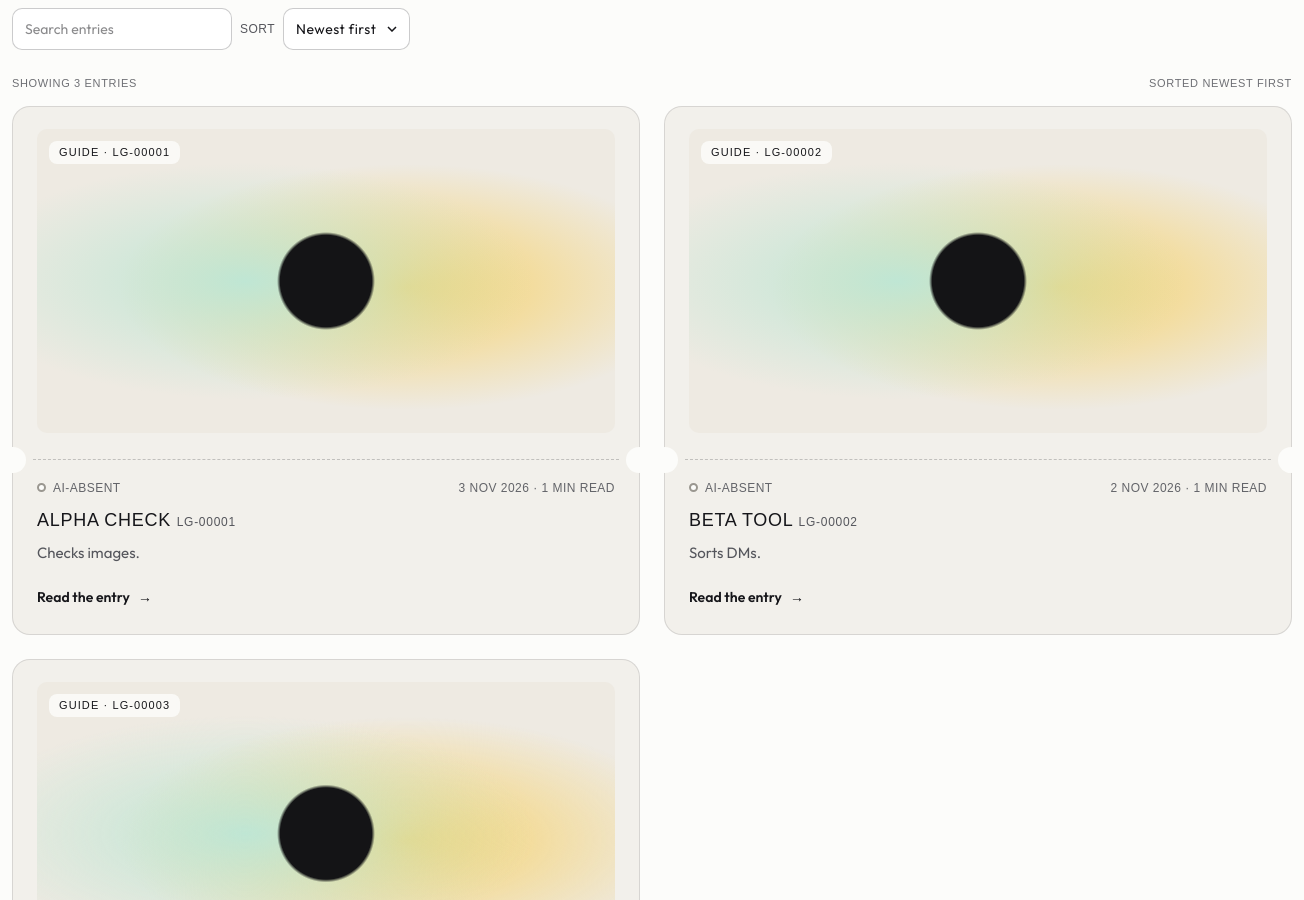
it: LogFeed › filters by what is typed and updates the count, with a message when nothing matches
Type "beta" into the search field labelled "Search entries". click: (122, 29)
box: [12,8,232,50]
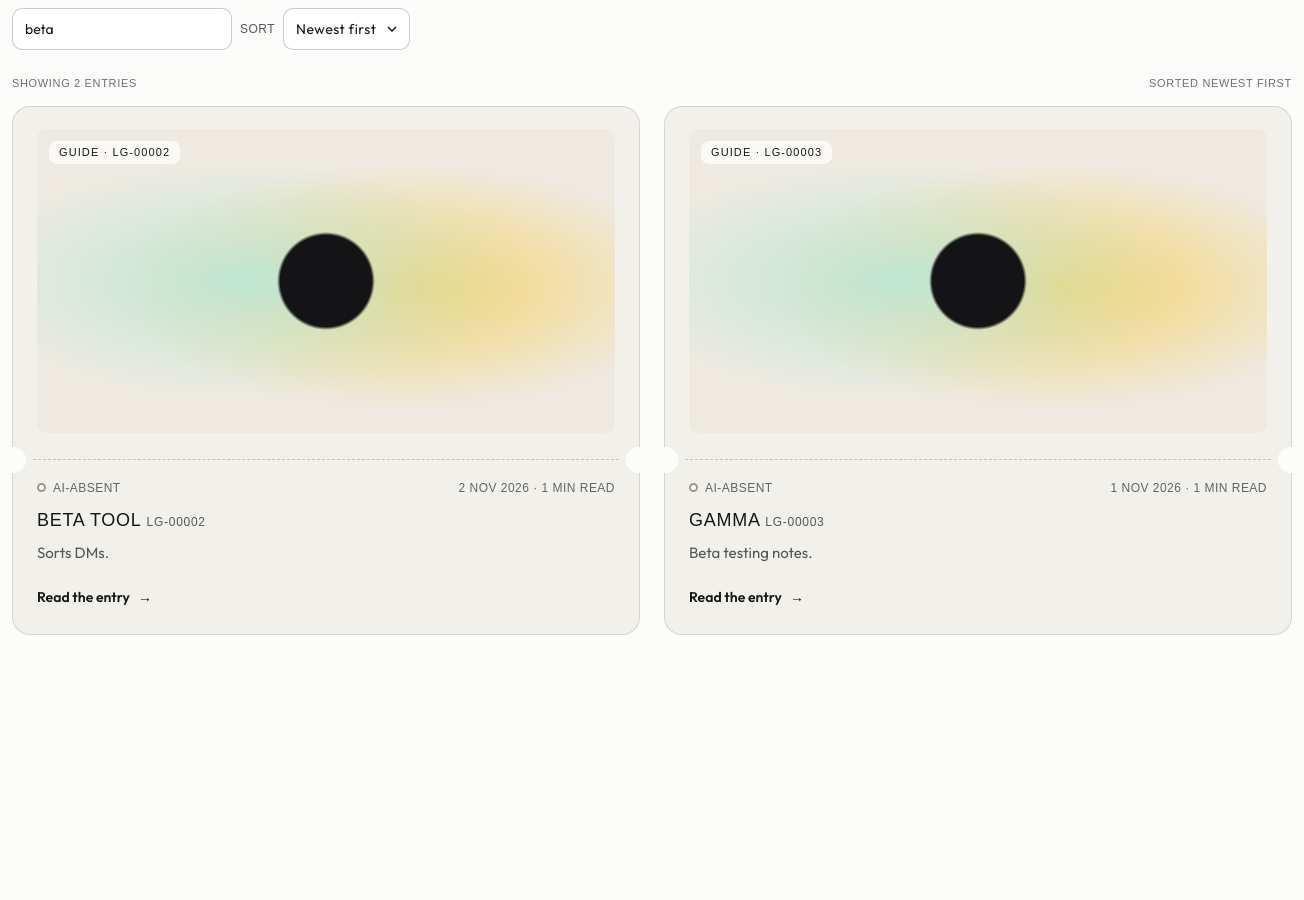
Result: the text "Showing 2 entries" is shown at [12,76,137,90]
Replace the text in the search field named "Search entries" with "zzz". click: (122, 29)
box: [12,8,232,50]
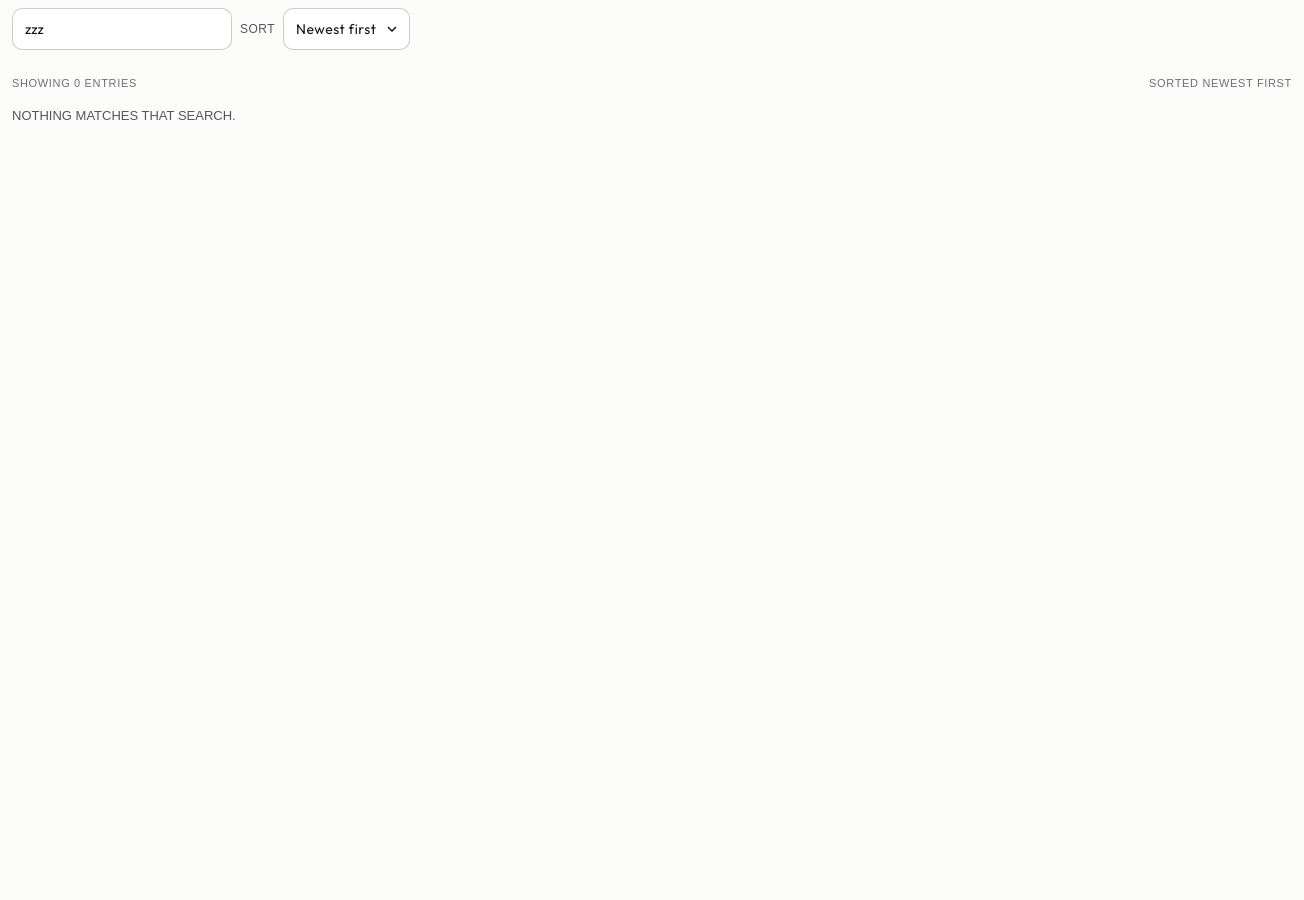
Result: the text "Showing 0 entries" is shown at [12,76,137,90]
Result: the text "Nothing matches that search." is shown at [12,108,236,123]
